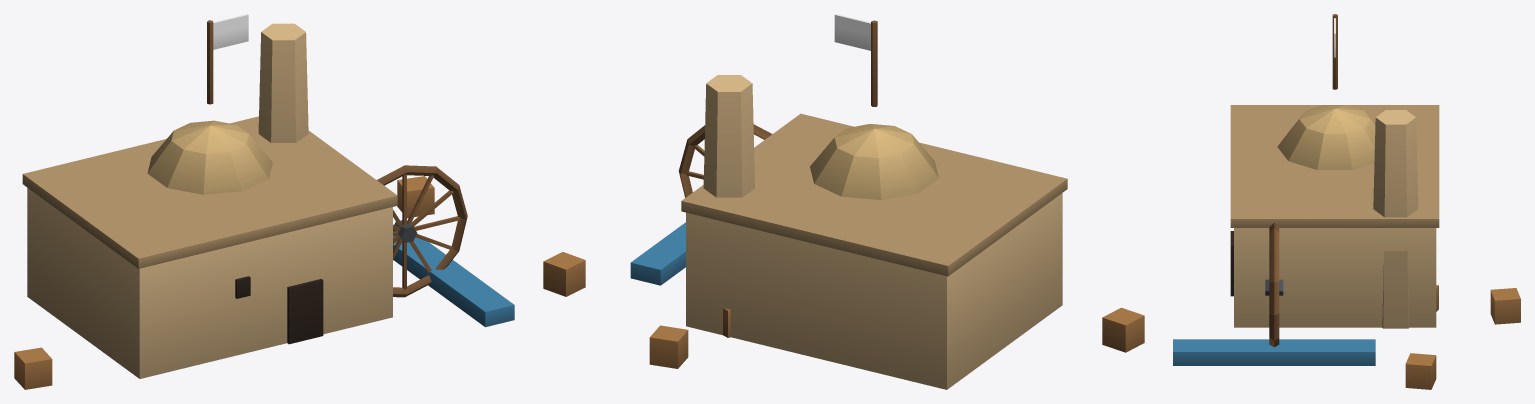
Rendered from FACTORY_MA.glb.
3 renders of one model, left to right at view 1: azimuth 30°, elevation 25°; view 2: azimuth 150°, elevation 25°; view 3: azimuth 270°, elevation 25°, orthographic. The views are drawn at different scales.
Parts seen in each view (by area): view 1: Body, Wheel_water, Flag; view 2: Body, Flag, Wheel_water; view 3: Body, Wheel_water.
Part boxes in pixels (box(x1,y1,x2,y2)): Body: box(14, 20, 514, 389); Wheel_water: box(377, 165, 467, 297); Flag: box(213, 14, 248, 49); Body: box(543, 20, 1144, 389); Flag: box(834, 14, 870, 50); Wheel_water: box(678, 124, 772, 197); Body: box(1173, 14, 1520, 389); Wheel_water: box(1265, 222, 1283, 347).
Size of the model in its own units: 5.05 by 2.85 by 3.43.
1 material, 1 textured.
